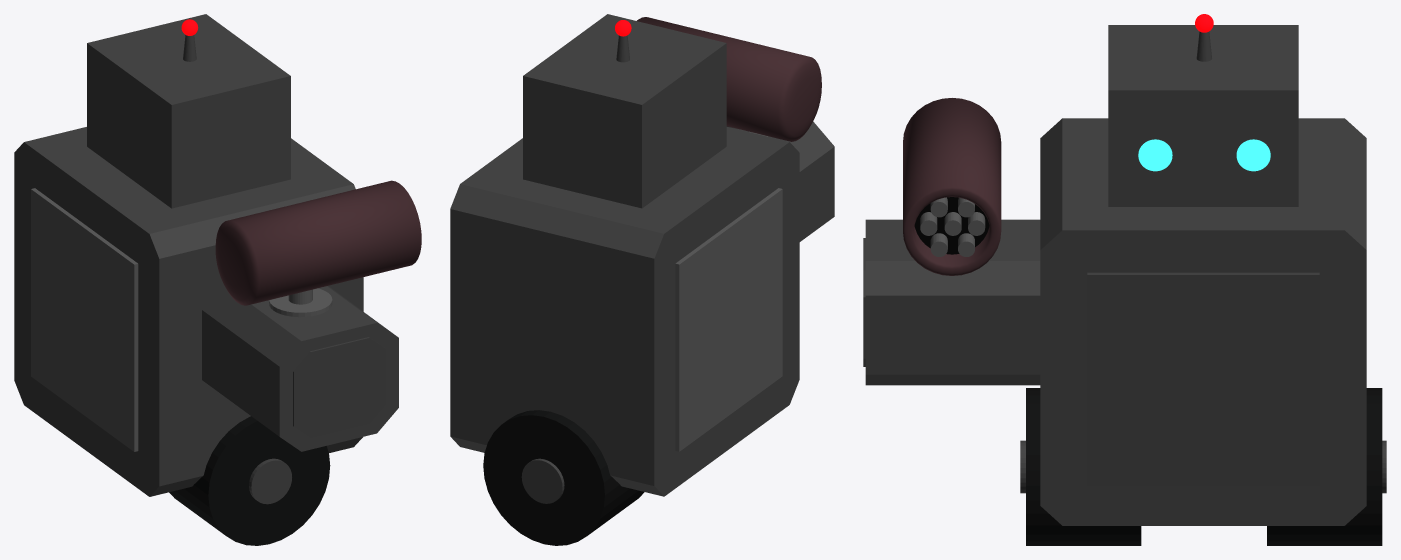
File: robot1.fbx
3 views of the same model, side by side, from view 1: azimuth 30°, elevation 25°; view 2: azimuth 150°, elevation 25°; view 3: azimuth 270°, elevation 25° (orthographic). The views are drawn at different scales.
Parts seen in each view (by area): view 1: Robot_Pistol; view 2: Robot_Pistol; view 3: Robot_Pistol.
Boxes of the visible parts, x1,y1,x2,y2 form: Robot_Pistol: (14,14,421,545); Robot_Pistol: (450,14,834,545); Robot_Pistol: (863,14,1386,545).
Size of the model in its own units: 384 by 804 by 728.
